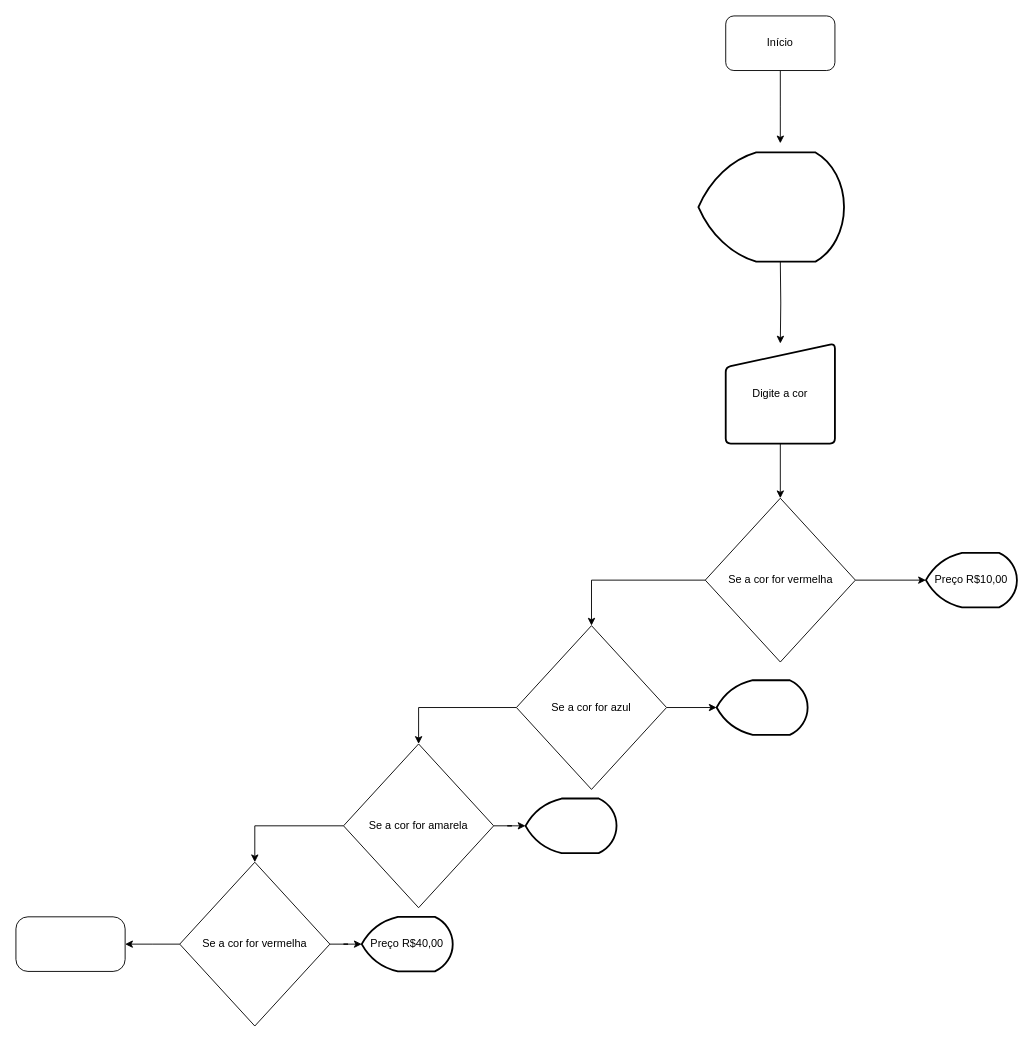
This 1034x1042 diagram has some shape labels left out. Here are the shapes that lost their labels. From the top down, the centre of each, then its label:
At (770,206): "Digite uma das cores : Verde,Azul,Amarelo, Vermelho,para saber o valor".
At (761,707): "Preço R$20,00".
At (570,825): "Preço R$30,00".
At (70,943): "fim".
